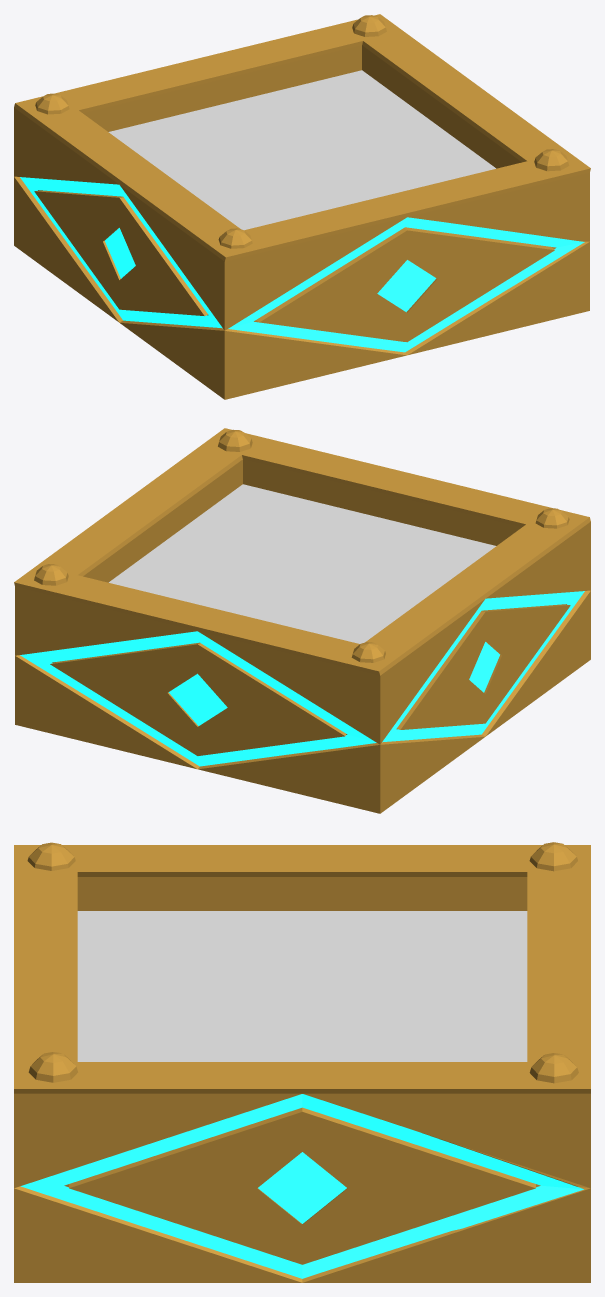
File: Pyramid_Pool.fbx
The picture shows the model from 3 angles, top to bottom: view 1: azimuth 30°, elevation 25°; view 2: azimuth 150°, elevation 25°; view 3: azimuth 270°, elevation 25°; orthographic projection. The views are drawn at different scales.
Visible parts, largest first — view 1: Pyramid_pool, PyramidPool_mask, Pyramid_lightmask; view 2: Pyramid_pool, PyramidPool_mask, Pyramid_lightmask; view 3: Pyramid_pool, PyramidPool_mask, Pyramid_lightmask.
Part boxes in pixels (x1=…): Pyramid_pool: x1=14, y1=14, x2=590, y2=399; PyramidPool_mask: x1=108, y1=70, x2=495, y2=230; Pyramid_lightmask: x1=20, y1=177, x2=584, y2=352; Pyramid_pool: x1=14, y1=428, x2=590, y2=813; PyramidPool_mask: x1=109, y1=484, x2=496, y2=643; Pyramid_lightmask: x1=20, y1=591, x2=584, y2=766; Pyramid_pool: x1=14, y1=842, x2=590, y2=1282; PyramidPool_mask: x1=77, y1=911, x2=527, y2=1061; Pyramid_lightmask: x1=20, y1=1094, x2=583, y2=1278.
Bounding box in the file's own units: 516 × 210 × 519.
